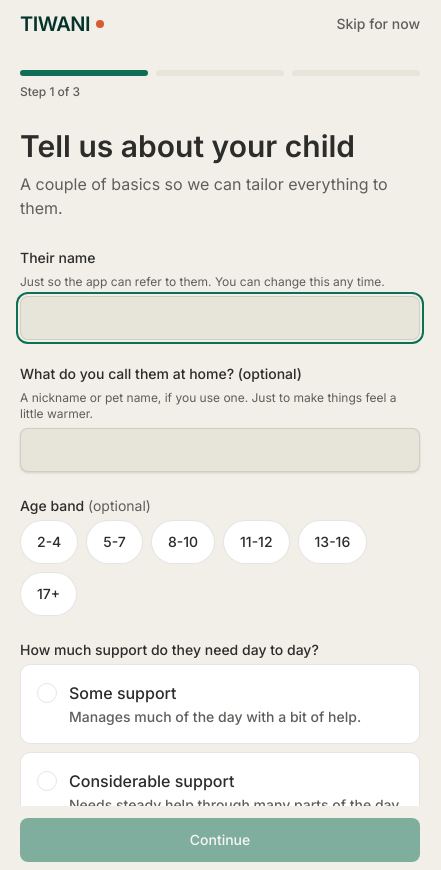
Test: OnboardingFlow (rendered) › renders step 1 and gates Continue until name + support level are set
Expected: the heading "Tell us about your child" is shown, [20,128,355,164]
Expected: the button "Continue" is disabled, [20,818,420,862]
Type "Ada" into the field labelled "Their name".
click(220, 318); type("Ada")  # box [20,296,420,340]
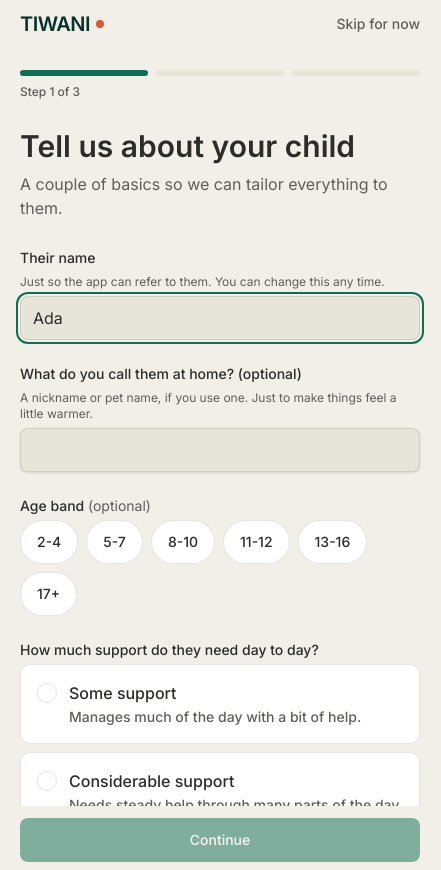
Expected: the button "Continue" is disabled, [20,818,420,862]
Click the button "Some support Manages much of the day with a bit of help.".
click(123, 693)  # box [20,664,420,744]
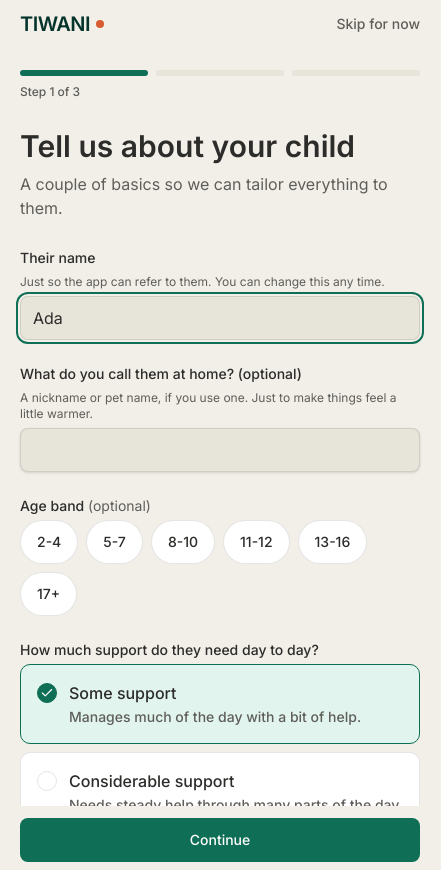
Result: the button "Continue" is enabled at [20,818,420,862]
